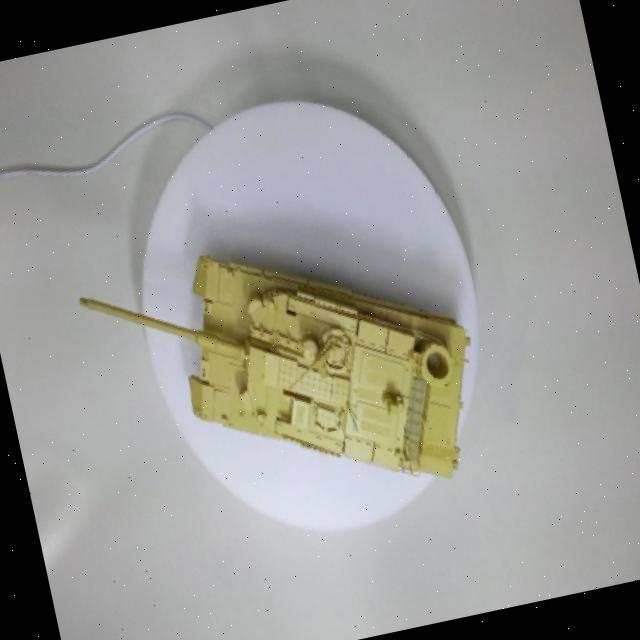korea tank: (64, 165, 542, 562)
